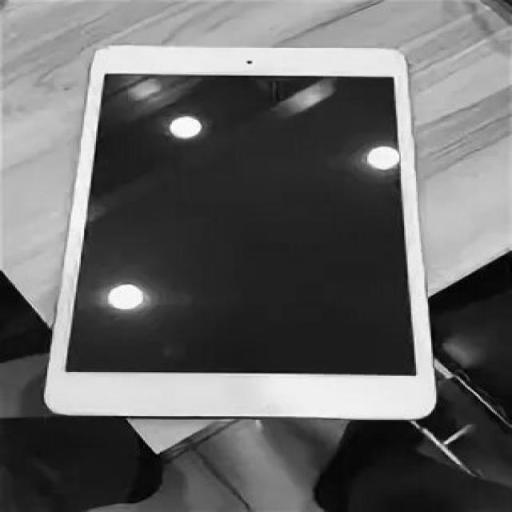phone: (45, 41, 438, 424)
